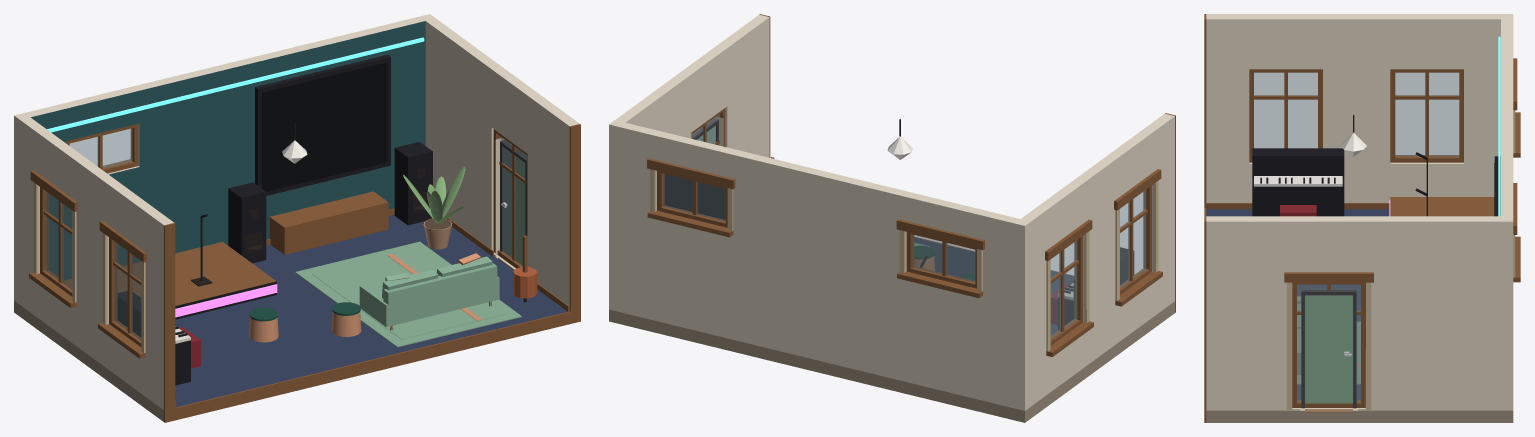
The model's file is map-karaoke.glb.
3 renders of one model, left to right at view 1: azimuth 30°, elevation 25°; view 2: azimuth 150°, elevation 25°; view 3: azimuth 270°, elevation 25°, orthographic. The views are drawn at different scales.
Parts seen in each view (by area): view 1: Walls, Floor_Slab, TV_Unit, Living_Rug, Windows_Glass, Sofa, Karaoke_Stage, Karaoke_Deco, Speaker_L, Speaker_R, Door_Entrance_Leaf, Plant_Living (+4 smaller); view 2: Walls, Floor_Slab, Windows_Glass, TV_Unit, Piano; view 3: Walls, Windows_Glass, Piano, Floor_Slab, Door_Entrance_Leaf, Karaoke_Stage, Door_Entrance, Karaoke_Deco, Sofa, Living_Rug, TV_Unit.
Part boxes in pixels (bbox=[...]): Walls: bbox=[14, 14, 580, 422]; Floor_Slab: bbox=[14, 214, 569, 421]; TV_Unit: bbox=[255, 54, 390, 254]; Living_Rug: bbox=[295, 241, 521, 347]; Windows_Glass: bbox=[45, 128, 527, 339]; Sofa: bbox=[359, 253, 499, 330]; Karaoke_Stage: bbox=[64, 214, 277, 319]; Karaoke_Deco: bbox=[47, 37, 537, 302]; Speaker_L: bbox=[228, 182, 266, 263]; Speaker_R: bbox=[394, 141, 432, 225]; Door_Entrance_Leaf: bbox=[501, 147, 525, 265]; Plant_Living: bbox=[403, 166, 465, 249]; Walls: bbox=[609, 14, 1175, 410]; Floor_Slab: bbox=[609, 238, 1174, 422]; Windows_Glass: bbox=[663, 114, 1146, 338]; TV_Unit: bbox=[664, 174, 725, 219]; Piano: bbox=[1050, 247, 1134, 330]; Walls: bbox=[1204, 14, 1520, 422]; Windows_Glass: bbox=[1254, 72, 1459, 401]; Piano: bbox=[1252, 148, 1344, 216]; Floor_Slab: bbox=[1206, 209, 1513, 422]; Door_Entrance_Leaf: bbox=[1305, 295, 1352, 403]; Karaoke_Stage: bbox=[1389, 152, 1494, 216]; Door_Entrance: bbox=[1301, 289, 1356, 412]; Karaoke_Deco: bbox=[1340, 36, 1500, 216]; Sofa: bbox=[1297, 296, 1301, 374]; Living_Rug: bbox=[1297, 321, 1360, 384]; TV_Unit: bbox=[1494, 156, 1500, 216].
Size of the model in its own units: 8.2 by 3.62 by 5.15.
